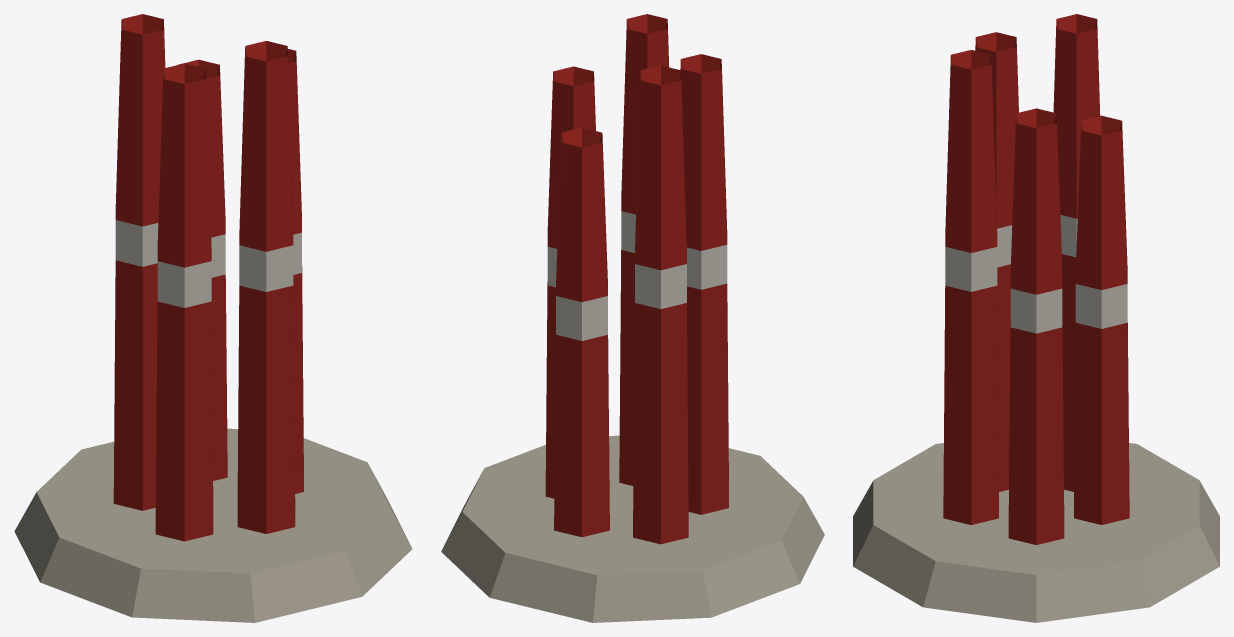
The model's file is tugu-bambu-runcing-lod0.glb.
The picture shows the model from 3 angles, left to right: view 1: azimuth 30°, elevation 25°; view 2: azimuth 150°, elevation 25°; view 3: azimuth 270°, elevation 25°; orthographic projection. The views are drawn at different scales.
Parts seen in each view (by area): view 1: tugu-bambu-runcing_LOD0; view 2: tugu-bambu-runcing_LOD0; view 3: tugu-bambu-runcing_LOD0.
Boxes of the visible parts, left/top/right/bottom form: tugu-bambu-runcing_LOD0: left=14, top=14, right=412, bottom=622; tugu-bambu-runcing_LOD0: left=441, top=14, right=824, bottom=622; tugu-bambu-runcing_LOD0: left=853, top=14, right=1219, bottom=622.
Bounding box in the file's own units: 9 × 12.72 × 8.56.
